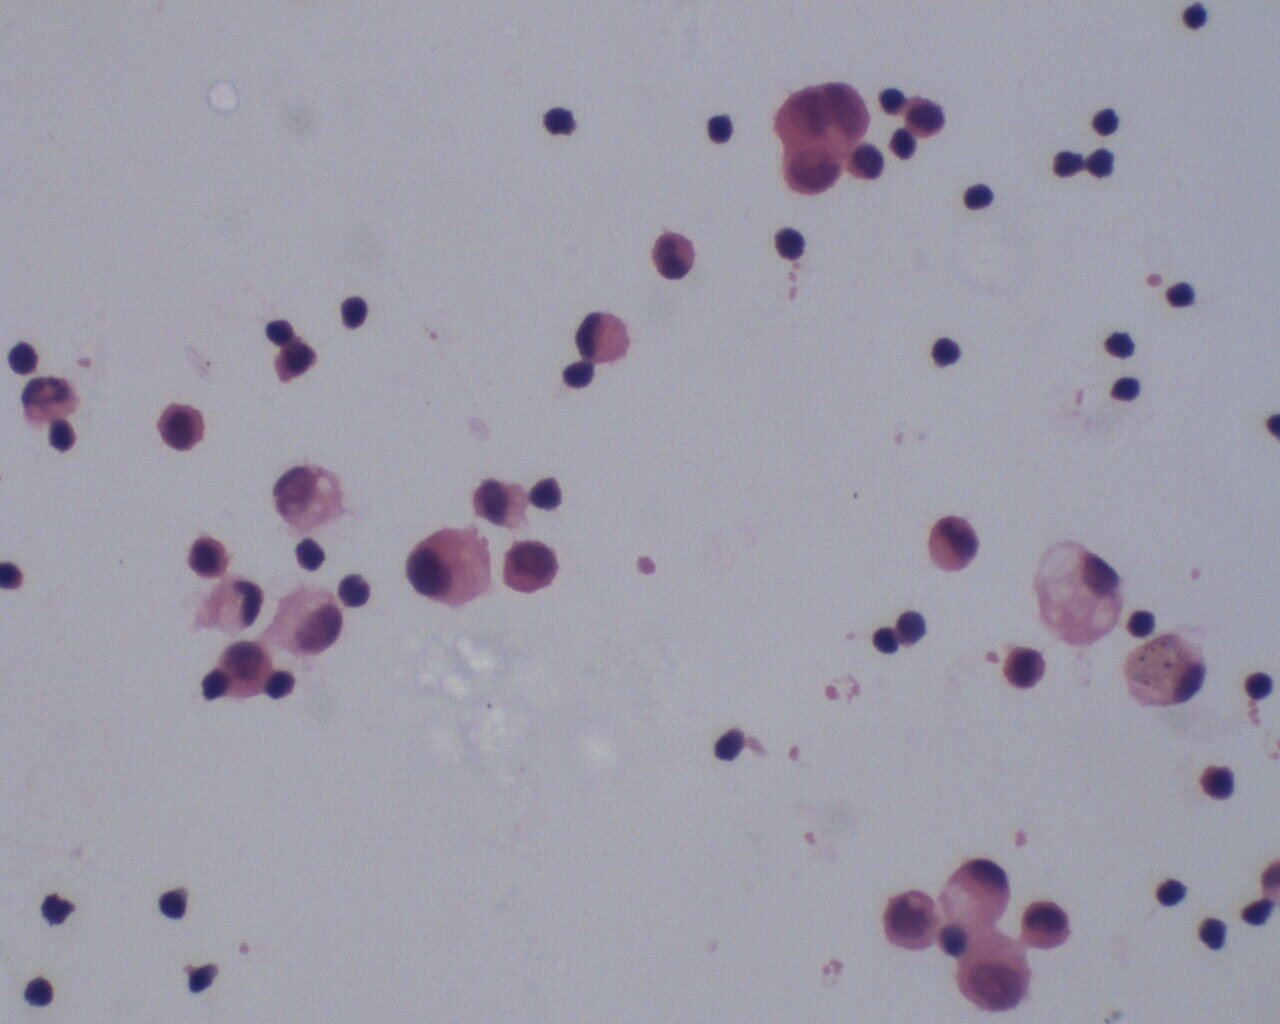ab: (490, 538, 566, 599), (781, 137, 847, 199), (149, 401, 208, 452)
histo: (1026, 539, 1125, 648), (1122, 632, 1210, 711), (940, 853, 1015, 929)
lymph: (769, 225, 813, 265), (331, 295, 374, 335), (559, 355, 600, 396), (1086, 102, 1127, 141), (153, 883, 193, 920), (931, 335, 967, 377), (20, 972, 55, 1014), (1242, 667, 1277, 707), (1107, 371, 1145, 406), (703, 106, 736, 147), (1166, 278, 1201, 316), (1154, 874, 1187, 909), (964, 177, 997, 211)
meso: (404, 523, 505, 612), (950, 922, 1031, 1020), (267, 576, 348, 659), (216, 636, 276, 704), (885, 887, 940, 955), (1020, 897, 1072, 954)
